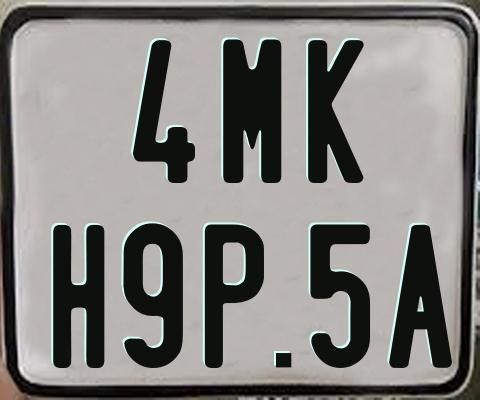4: (131, 39, 198, 182)
5: (307, 221, 370, 370)
9: (121, 223, 185, 372)
A: (387, 224, 451, 372)
H: (52, 223, 105, 369)
K: (307, 40, 364, 183)
M: (222, 37, 286, 182)
P: (202, 223, 265, 371)
